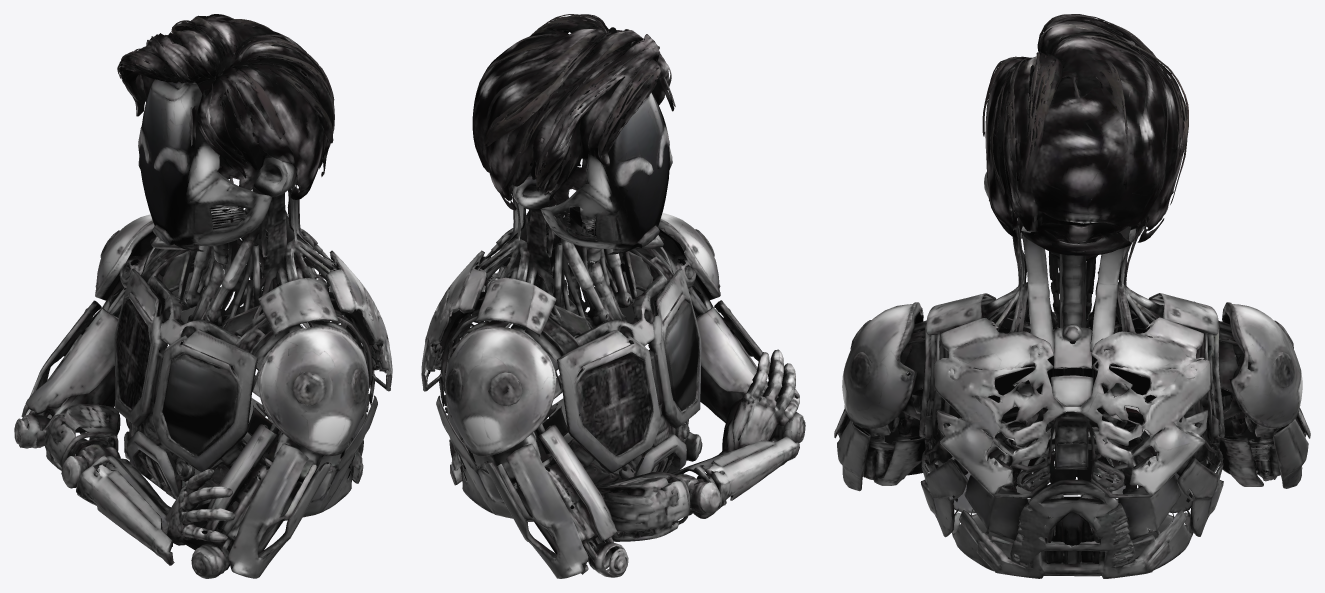
Rendered from sample_2026-09-19T141859.988.glb.
The picture shows the model from 3 angles, left to right: view 1: azimuth 30°, elevation 25°; view 2: azimuth 150°, elevation 25°; view 3: azimuth 270°, elevation 25°; orthographic projection. The views are drawn at different scales.
Parts seen in each view (by area): view 1: world; view 2: world; view 3: world.
Boxes of the visible parts, left/top/right/bottom form: world: left=14, top=14, right=392, bottom=578; world: left=421, top=14, right=805, bottom=578; world: left=834, top=14, right=1310, bottom=578.
Bounding box in the file's own units: 0.646 × 1 × 0.89.
1 material, 1 textured.
